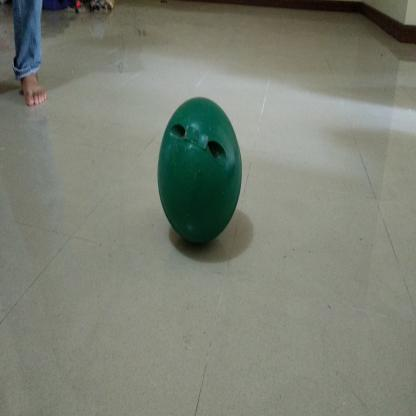green_buoy: (155, 90, 243, 257)
